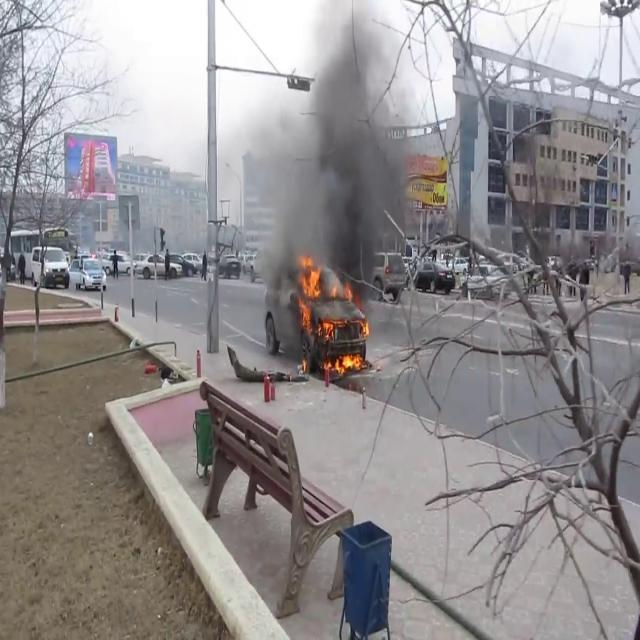Fire: (291, 252, 369, 380), (292, 252, 325, 338), (324, 346, 366, 379)
Smoke: (252, 1, 416, 276)
